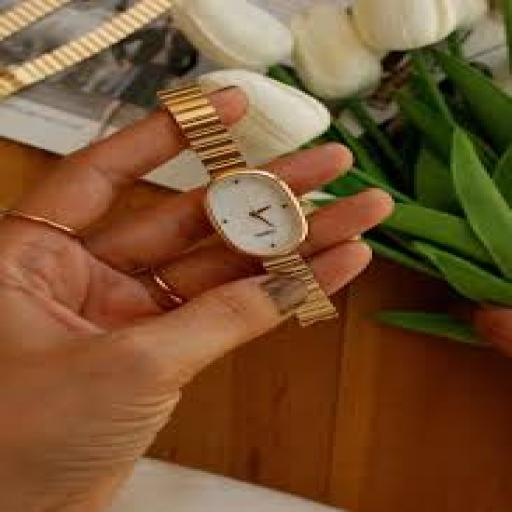KolSaati: (122, 77, 378, 338)
